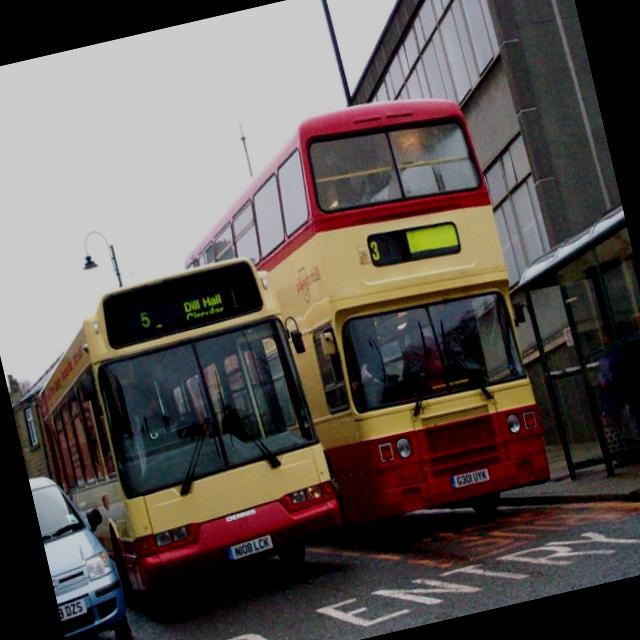Vehicle: (158, 82, 562, 572), (5, 242, 350, 618), (28, 463, 132, 640)
